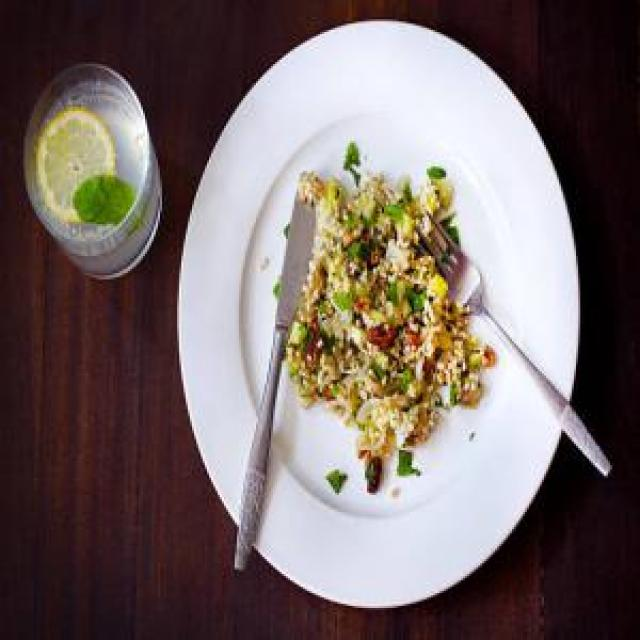knife: (226, 168, 323, 570)
